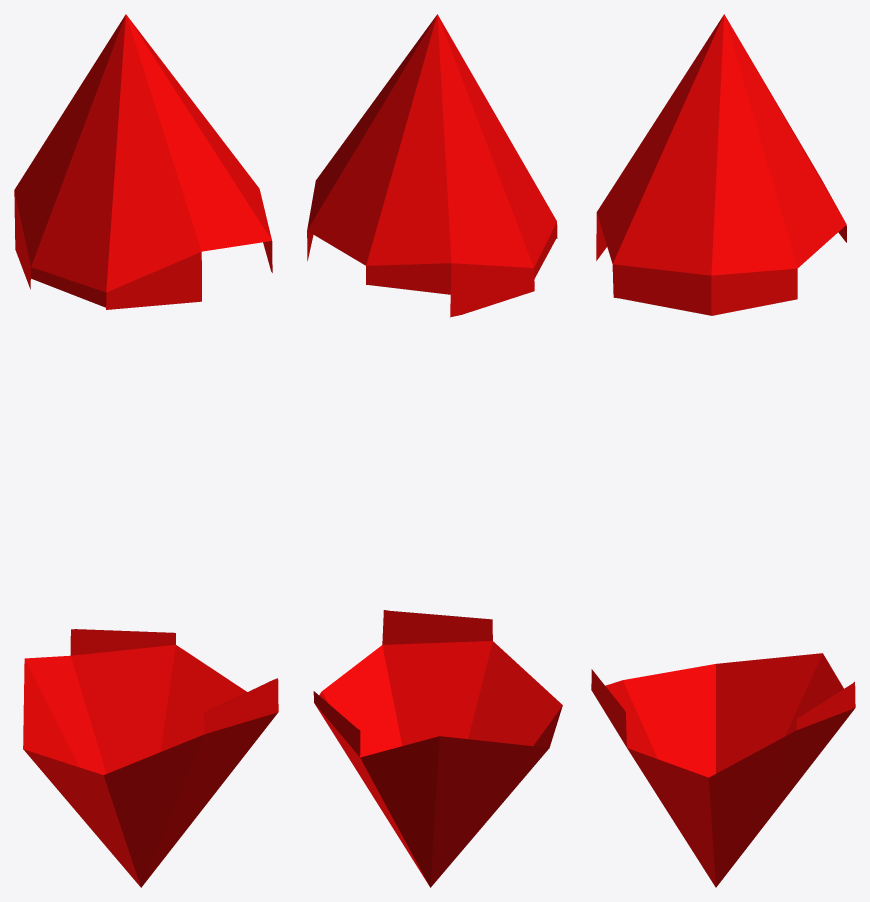
Rendered from crystal.obj.
3 renders of one model, left to right at view 1: azimuth 30°, elevation 25°; view 2: azimuth 150°, elevation 25°; view 3: azimuth 270°, elevation 25°, orthographic.
Visible parts, largest first — view 1: Circle; view 2: Circle; view 3: Circle.
Boxes of the visible parts, x1=… form: Circle: x1=14, y1=14, x2=278, y2=887; Circle: x1=307, y1=14, x2=562, y2=887; Circle: x1=591, y1=14, x2=855, y2=887.
Size of the model in its own units: 2.04 by 7.27 by 2.
